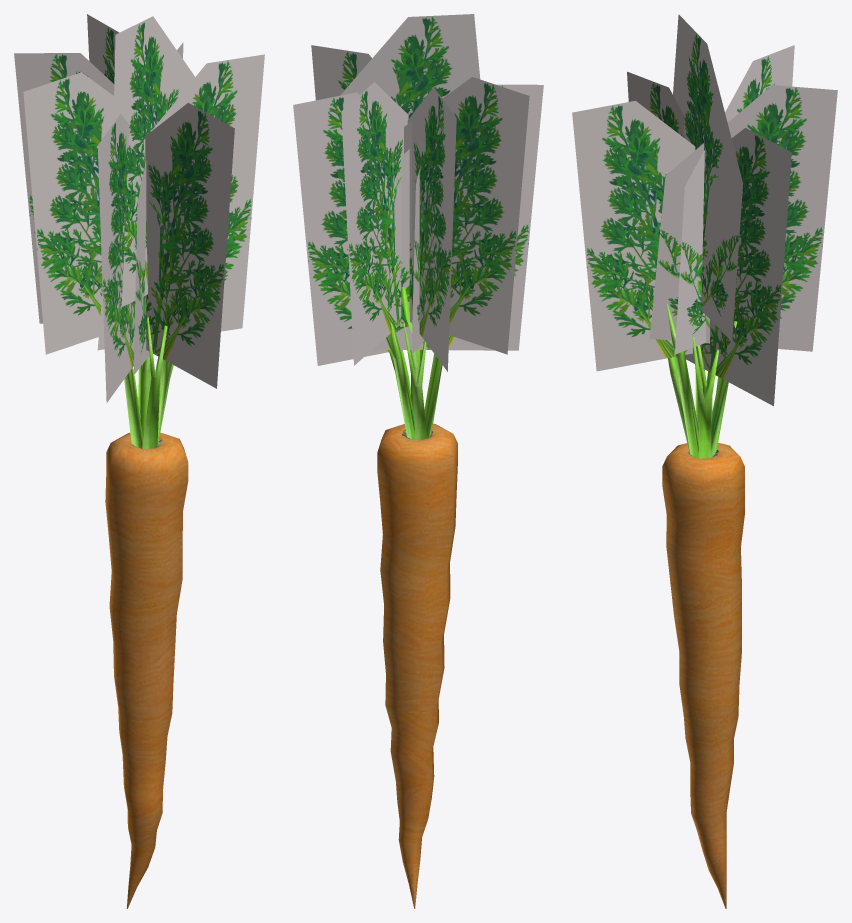
Rendered from carrot.dae.
3 renders of one model, left to right at view 1: azimuth 30°, elevation 25°; view 2: azimuth 150°, elevation 25°; view 3: azimuth 270°, elevation 25°, orthographic. The views are drawn at different scales.
Visible parts, largest first — view 1: Component_1 (×7), group_0, Component_3, group_1 (×2); view 2: Component_1 (×7), group_0, Component_3, group_1; view 3: Component_1 (×5), group_0, Component_3, group_1.
Boxes of the visible parts, x1,y1,x2,y2 form: Component_1 (×7): [14, 14, 264, 402]; group_0: [105, 432, 188, 908]; Component_3: [113, 16, 194, 306]; group_1 (×2): [124, 318, 173, 448]; Component_1 (×7): [293, 45, 543, 371]; group_0: [377, 423, 457, 908]; Component_3: [340, 14, 480, 118]; group_1: [386, 322, 442, 439]; Component_1 (×5): [572, 45, 837, 406]; group_0: [662, 443, 744, 908]; Component_3: [673, 14, 743, 341]; group_1: [666, 304, 737, 458].
Bounding box in the file's own units: 4.04 × 4.12 × 14.99.
5 materials, 5 textured.
